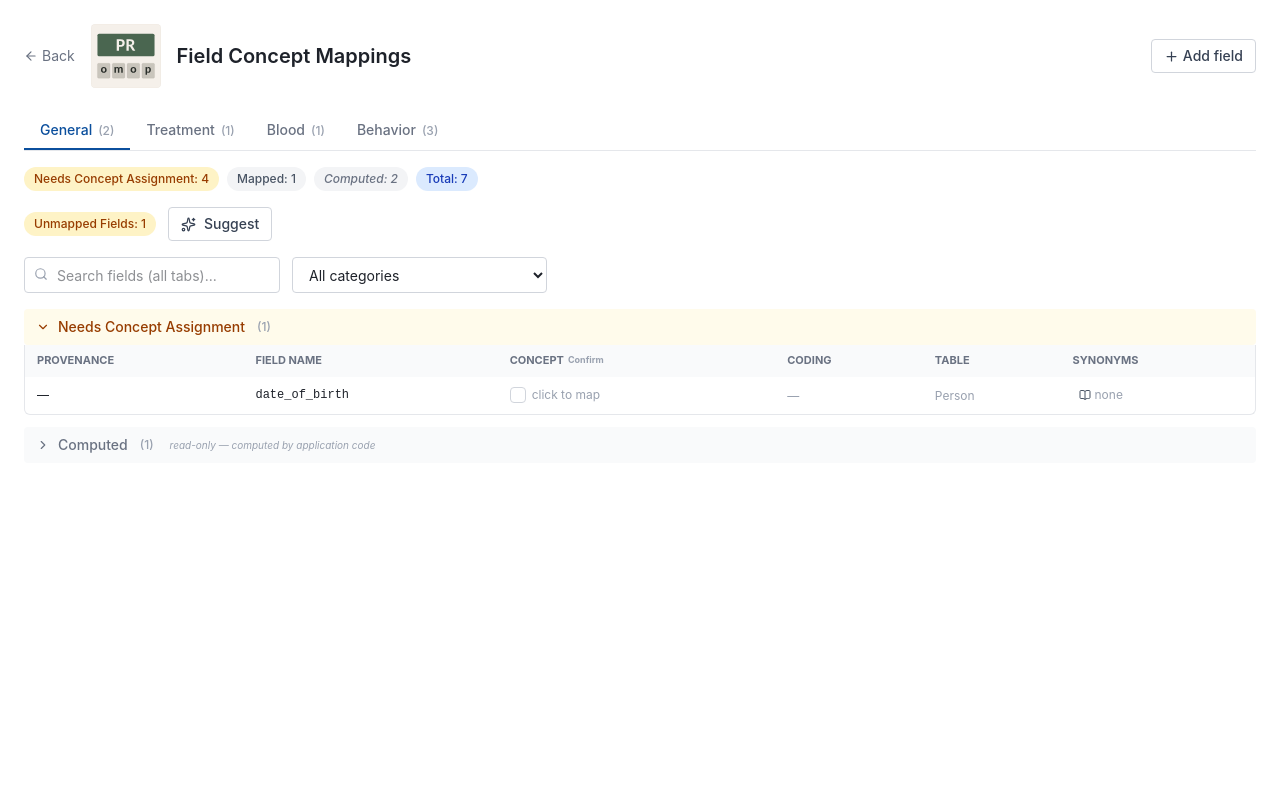
FieldMappingPage › opens concept assign dialog on concept cell click
This screenshot has width=1280, height=800.
What coordinates should you click on to do the following:
click the button "Behavior(3)"
I would click on:
 (398, 131)
Its box is x1=341 y1=112 x2=454 y2=150.
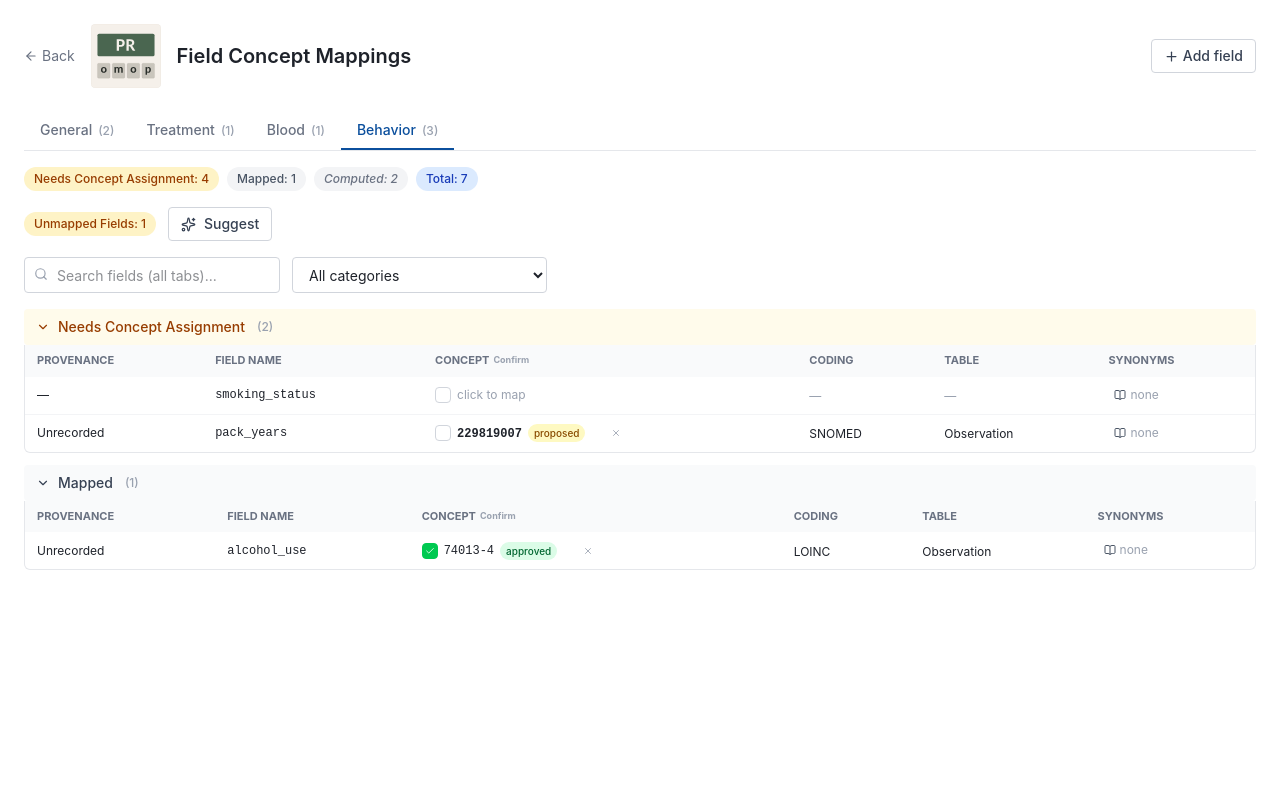
Expected: the text "smoking_status" is shown, x1=203 y1=377 x2=423 y2=414
Click "click to map" text for unmapped field
What coordinates should you click on to do the following:
click the button "click to map"
I would click on:
 (498, 395)
Its box is x1=457 y1=387 x2=540 y2=403.
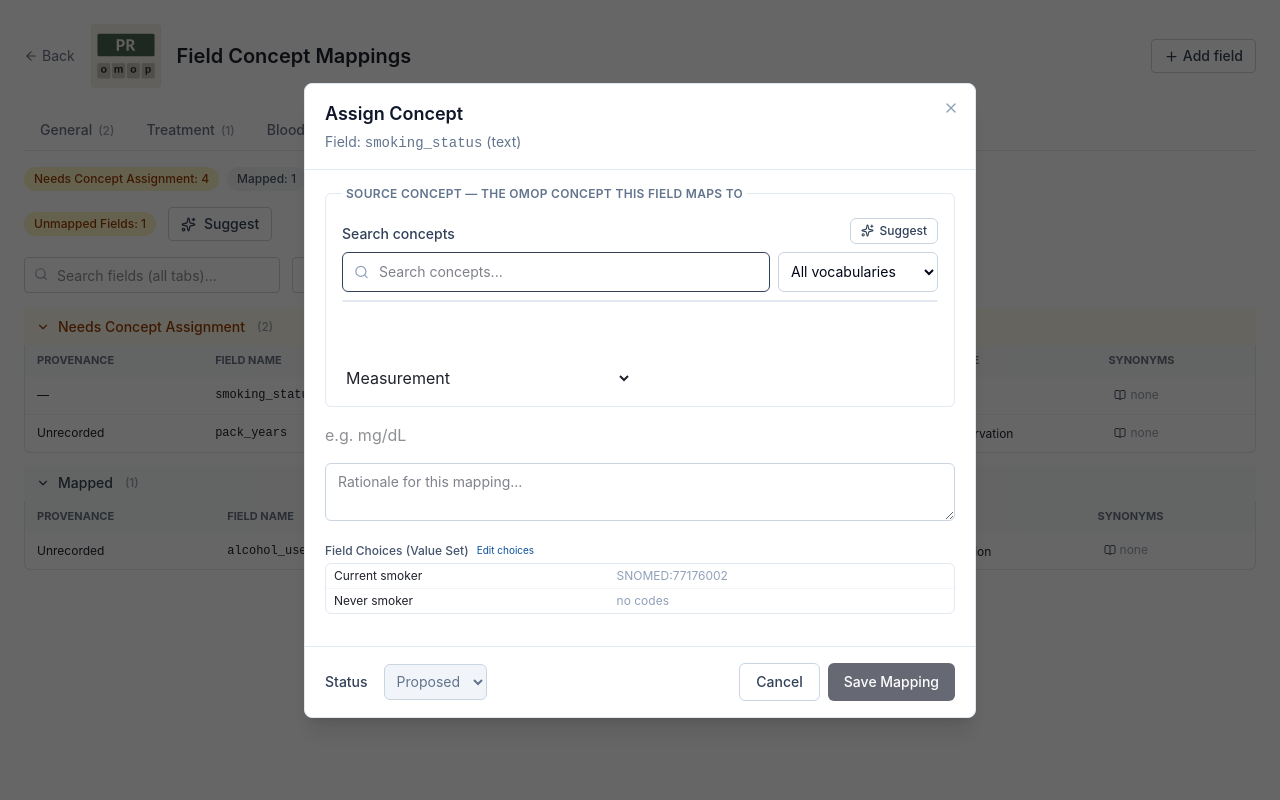
Expected: the heading "Assign Concept" is shown, x1=325 y1=102 x2=463 y2=124
